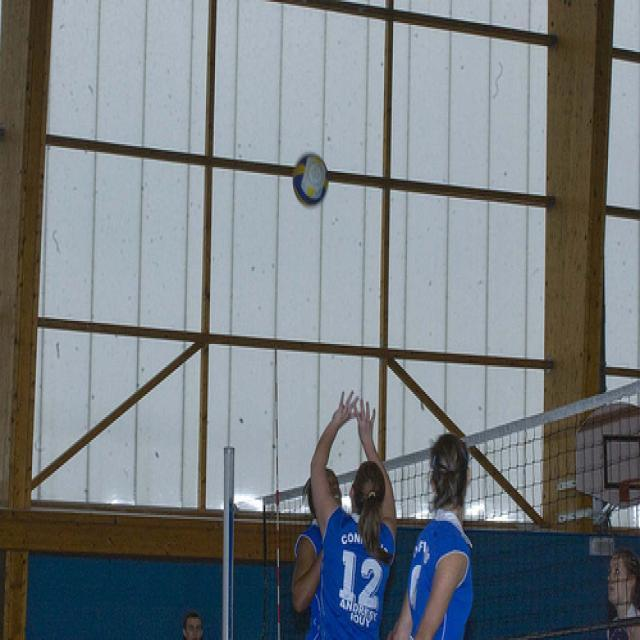volleyball: (292, 151, 330, 207)
